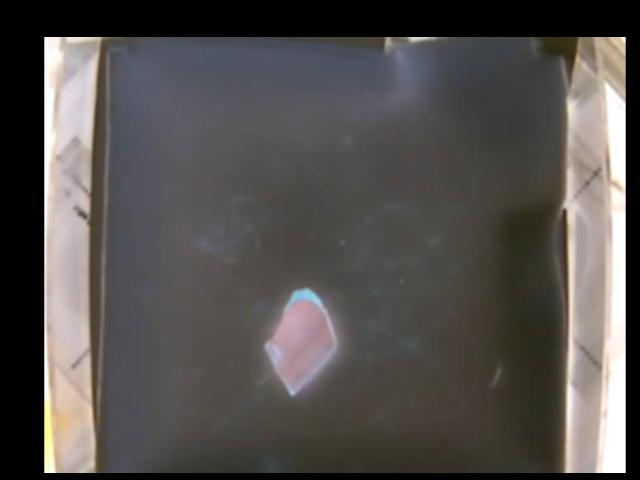China: (265, 287, 339, 393)
